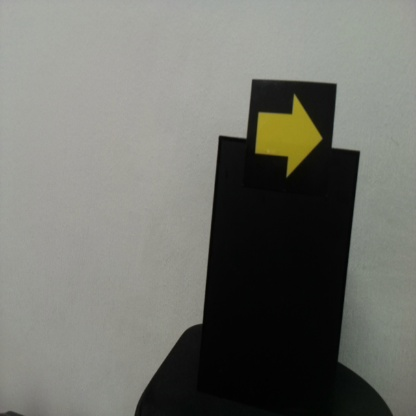id_3: (251, 81, 335, 200)
